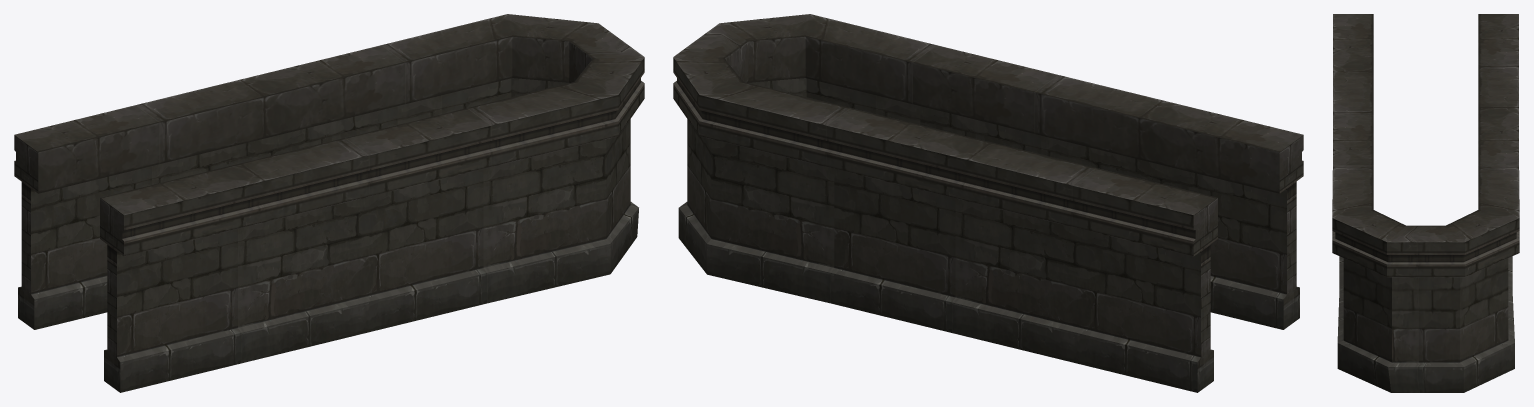
Rendered from sewer_wall004.FBX.
The picture shows the model from 3 angles, left to right: view 1: azimuth 30°, elevation 25°; view 2: azimuth 150°, elevation 25°; view 3: azimuth 270°, elevation 25°; orthographic projection. The views are drawn at different scales.
Visible parts, largest first — view 1: sewer_wall004; view 2: sewer_wall004; view 3: sewer_wall004.
Part boxes in pixels (<box>): sewer_wall004: <box>14,14,644,392</box>; sewer_wall004: <box>673,14,1303,392</box>; sewer_wall004: <box>1332,14,1519,392</box>.
Size of the model in its own units: 1376 by 430 by 478.
